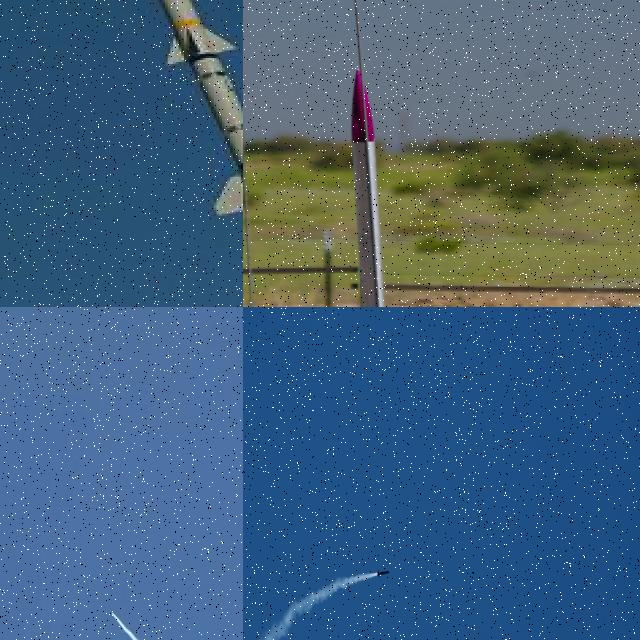Rocket: (104, 0, 243, 220), (340, 68, 426, 307), (377, 569, 390, 578), (110, 609, 113, 614)
